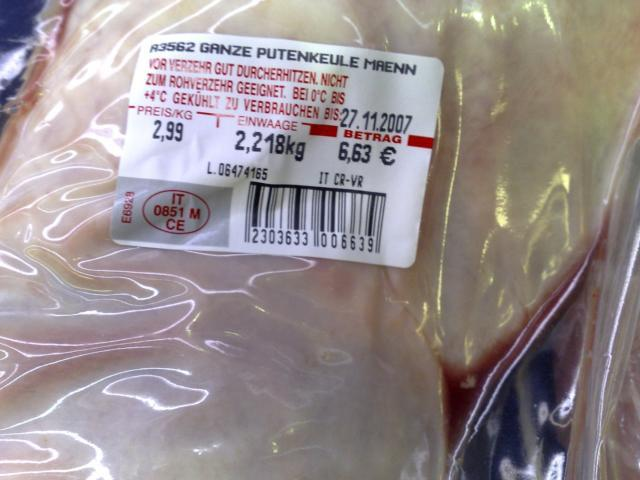Barcode: (242, 183, 388, 255)
